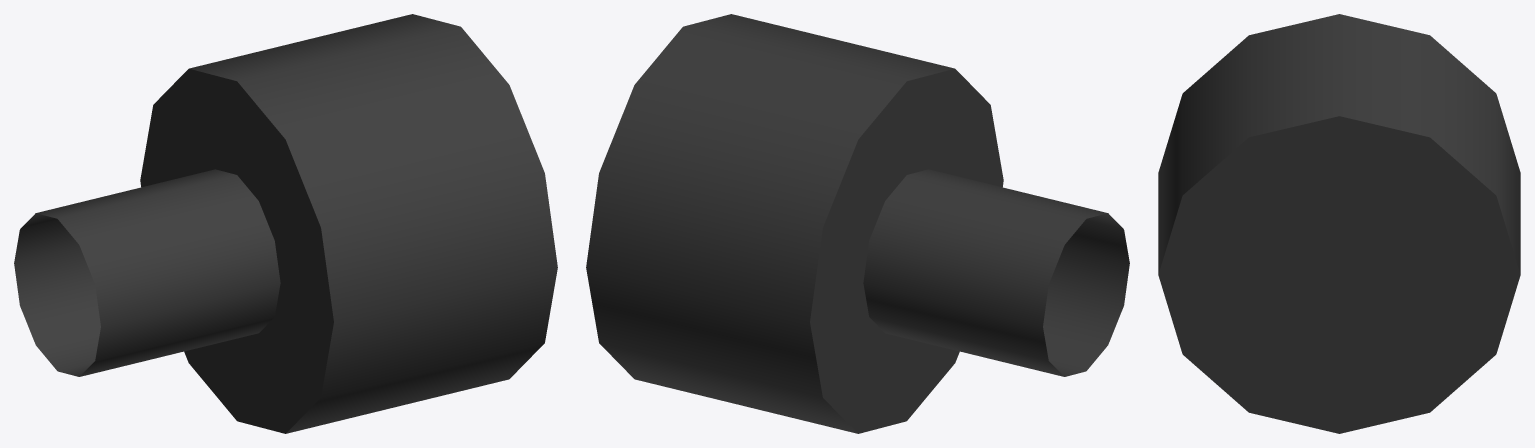
The model's file is SM_加热装置_002.fbx.
3 views of the same model, side by side, from view 1: azimuth 30°, elevation 25°; view 2: azimuth 150°, elevation 25°; view 3: azimuth 270°, elevation 25° (orthographic). The views are drawn at different scales.
Parts seen in each view (by area): view 1: SM_加热装置_002; view 2: SM_加热装置_002; view 3: SM_加热装置_002.
Boxes of the visible parts, x1=… form: SM_加热装置_002: x1=14, y1=14, x2=557, y2=433; SM_加热装置_002: x1=586, y1=14, x2=1129, y2=433; SM_加热装置_002: x1=1158, y1=14, x2=1520, y2=433.
Size of the model in its own units: 0.0408 by 0.0328 by 0.0339.
